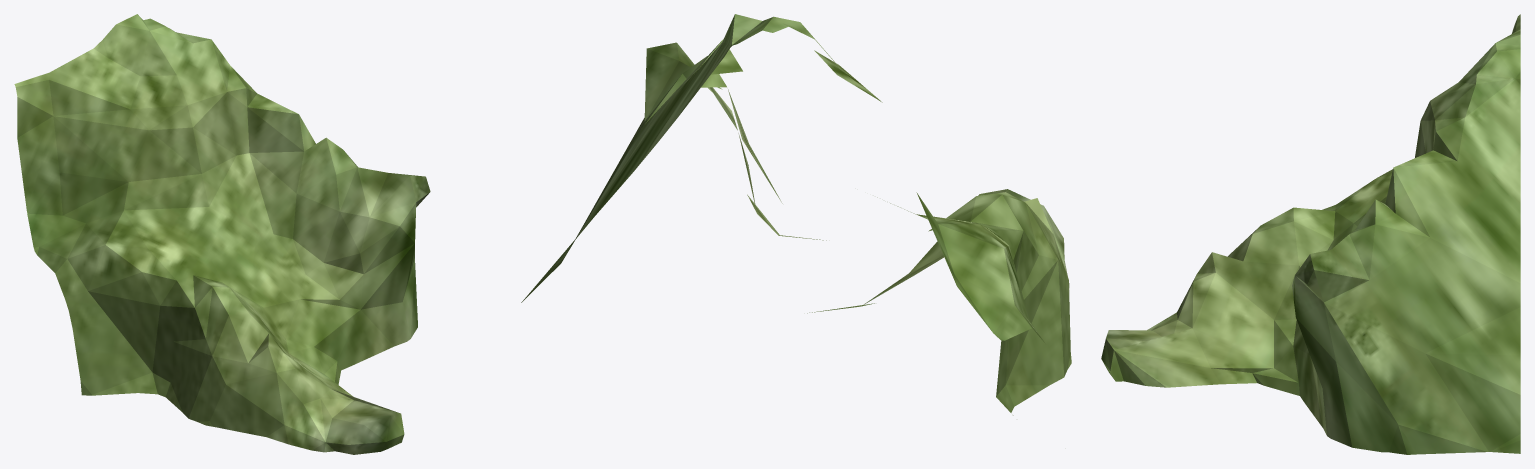
The picture shows the model from 3 angles, left to right: view 1: azimuth 30°, elevation 25°; view 2: azimuth 150°, elevation 25°; view 3: azimuth 270°, elevation 25°; orthographic projection. The views are drawn at different scales.
Bounding box in the file's own units: 1.5 × 1.29 × 1.57.
1 material, 1 textured.
